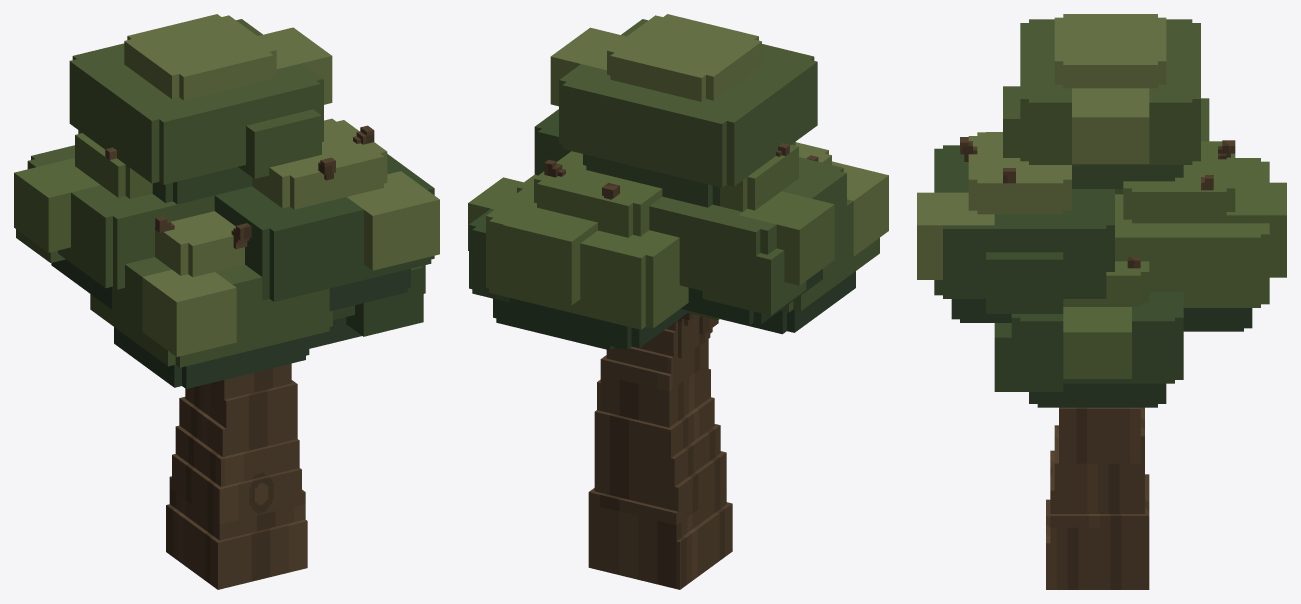
The model's file is oak_mature.glb.
3 renders of one model, left to right at view 1: azimuth 30°, elevation 25°; view 2: azimuth 150°, elevation 25°; view 3: azimuth 270°, elevation 25°, orthographic. The views are drawn at different scales.
Visible parts, largest first — view 1: VoxelVisual; view 2: VoxelVisual; view 3: VoxelVisual.
Boxes of the visible parts, x1=… form: VoxelVisual: x1=14, y1=14, x2=439, y2=589; VoxelVisual: x1=468, y1=14, x2=888, y2=589; VoxelVisual: x1=917, y1=14, x2=1286, y2=589.
Size of what is drawn, in the model's own units: 11.75 by 16.5 by 10.75.
